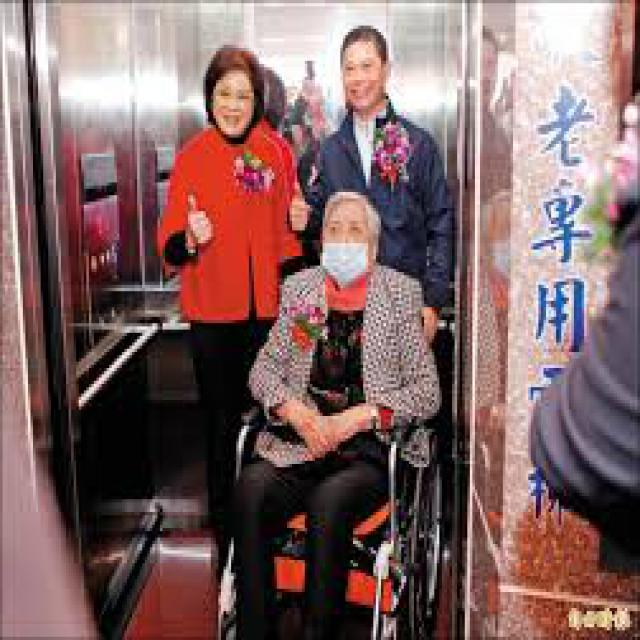wheelchairs: (196, 317, 450, 637)
